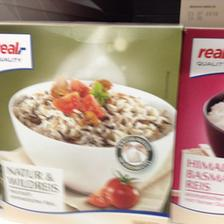Reis: (0, 20, 180, 223), (169, 27, 223, 222)
